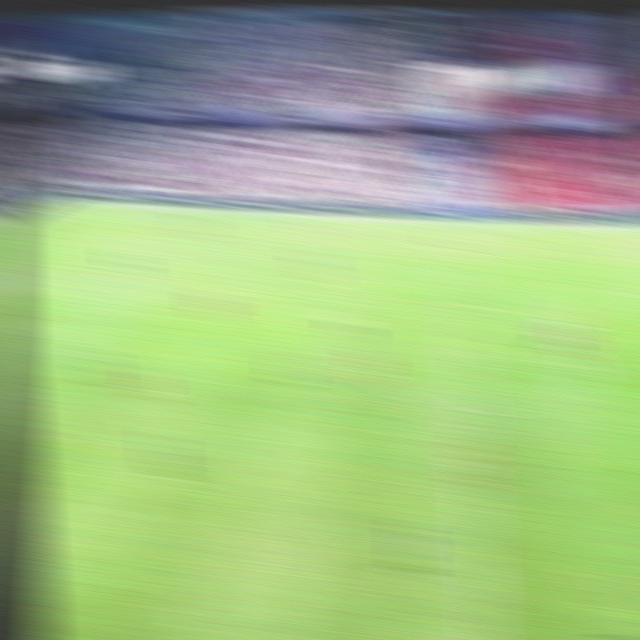bigarea_top_inner: (132, 239, 161, 250)
bottom_arc_area_intersection: (6, 352, 33, 364)
corner: (56, 199, 82, 205)
halfcircle_bottom: (454, 394, 490, 423)
halfcircle_top: (446, 295, 484, 317)
midline_top_intersection: (446, 218, 476, 231)
top_arc_area_intersection: (83, 283, 113, 295)
